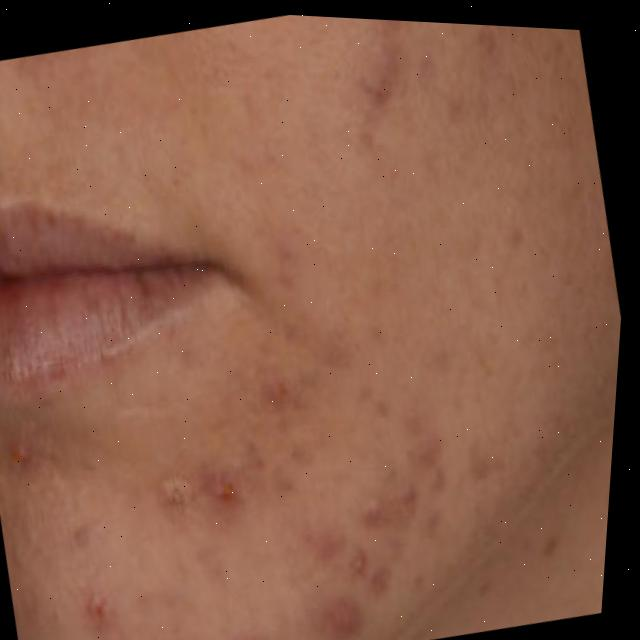Acne: (53, 230, 521, 640)
